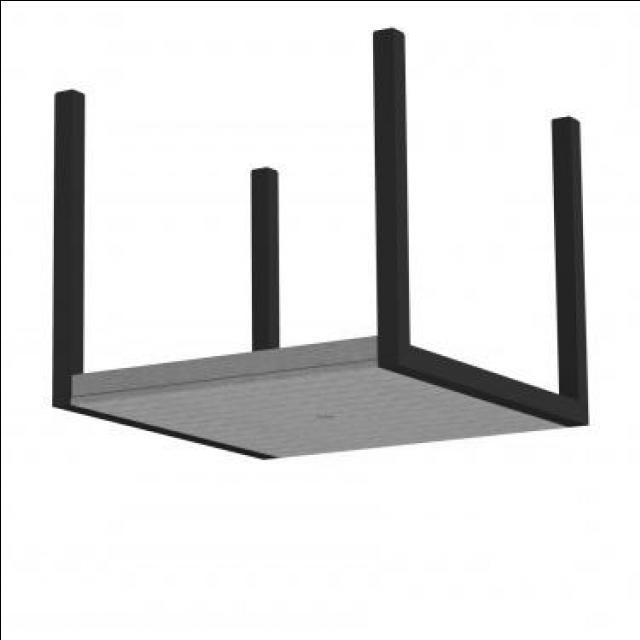table: (56, 29, 584, 462)
